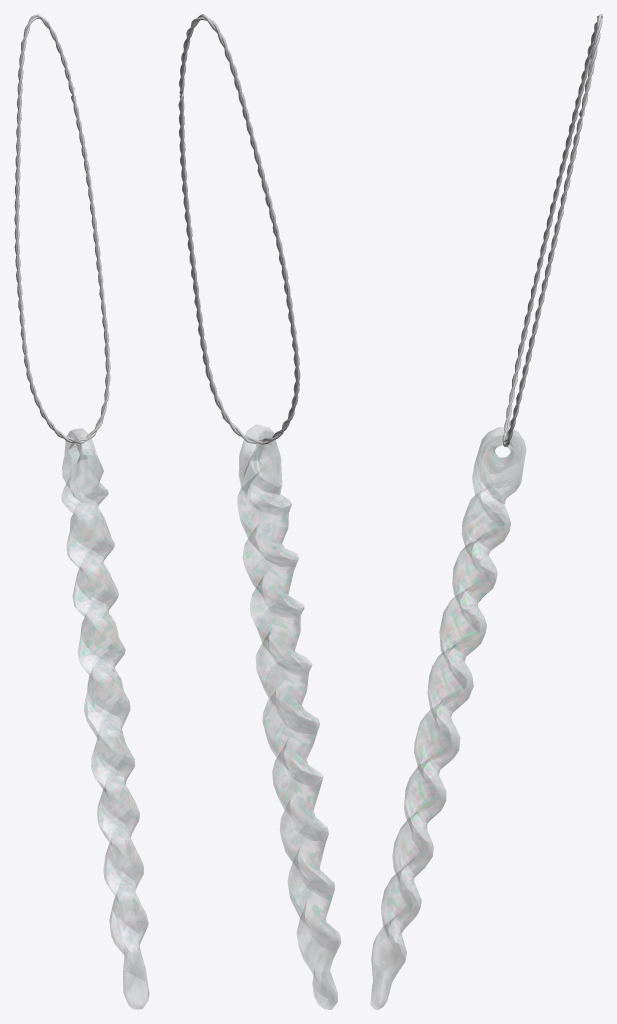
File: Iridescent_Spiral.glb
The picture shows the model from 3 angles, left to right: view 1: azimuth 30°, elevation 25°; view 2: azimuth 150°, elevation 25°; view 3: azimuth 270°, elevation 25°; orthographic projection. The views are drawn at different scales.
Visible parts, largest first — view 1: Mesh1.0, GN Instance; view 2: Mesh1.0, GN Instance; view 3: Mesh1.0, GN Instance.
Boxes of the visible parts, <box> form: Mesh1.0: <box>61,428,149,1009</box>; GN Instance: <box>14,14,110,443</box>; Mesh1.0: <box>237,424,341,1009</box>; GN Instance: <box>178,14,300,444</box>; Mesh1.0: <box>370,427,526,1009</box>; GN Instance: <box>502,14,602,447</box>.
Size of the model in its own units: 0.0212 by 0.2183 by 0.0462.
2 materials, 1 textured.
